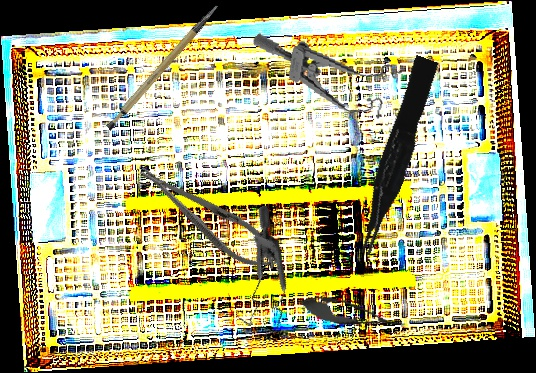Micro Scissor: (294, 289, 410, 339)
Needle Holder: (130, 153, 287, 282)
Scalpel Handle: (91, 4, 237, 133)
Speculum: (195, 203, 326, 346), (243, 32, 406, 122)
Tissue Forceps: (343, 54, 448, 258)
